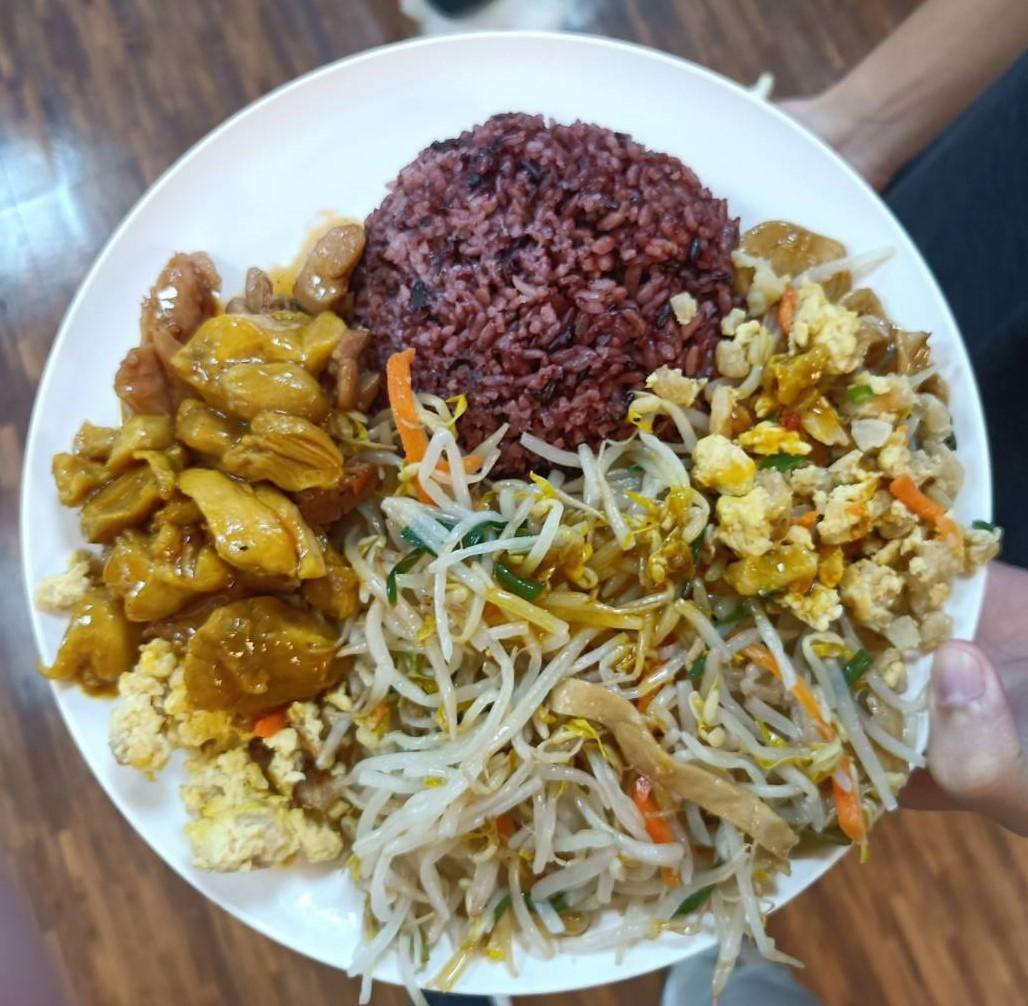big fried chicken leg: (20, 18, 1006, 998)
braised fish: (371, 123, 736, 456)
braised fish fillet: (381, 460, 862, 950), (702, 240, 963, 666)
braised pork: (88, 226, 376, 736)
